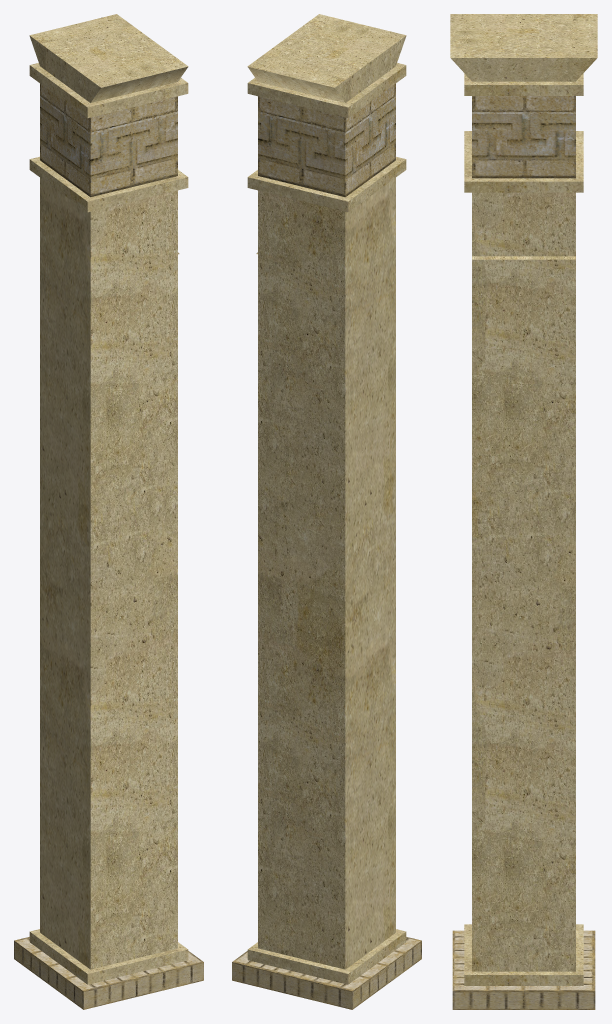
Rendered from tutorial_structure_support_pillar_lrg.dae.
The picture shows the model from 3 angles, left to right: view 1: azimuth 30°, elevation 25°; view 2: azimuth 150°, elevation 25°; view 3: azimuth 270°, elevation 25°; orthographic projection. The views are drawn at different scales.
Parts seen in each view (by area): view 1: tutorial_structure_support_pillar_lrg; view 2: tutorial_structure_support_pillar_lrg; view 3: tutorial_structure_support_pillar_lrg.
Boxes of the visible parts, bbox=[...] form: tutorial_structure_support_pillar_lrg: bbox=[14, 14, 203, 1009]; tutorial_structure_support_pillar_lrg: bbox=[232, 14, 421, 1009]; tutorial_structure_support_pillar_lrg: bbox=[450, 14, 597, 1009].
Bounding box in the file's own units: 2.41 × 2.49 × 17.57.
4 materials, 4 textured.
